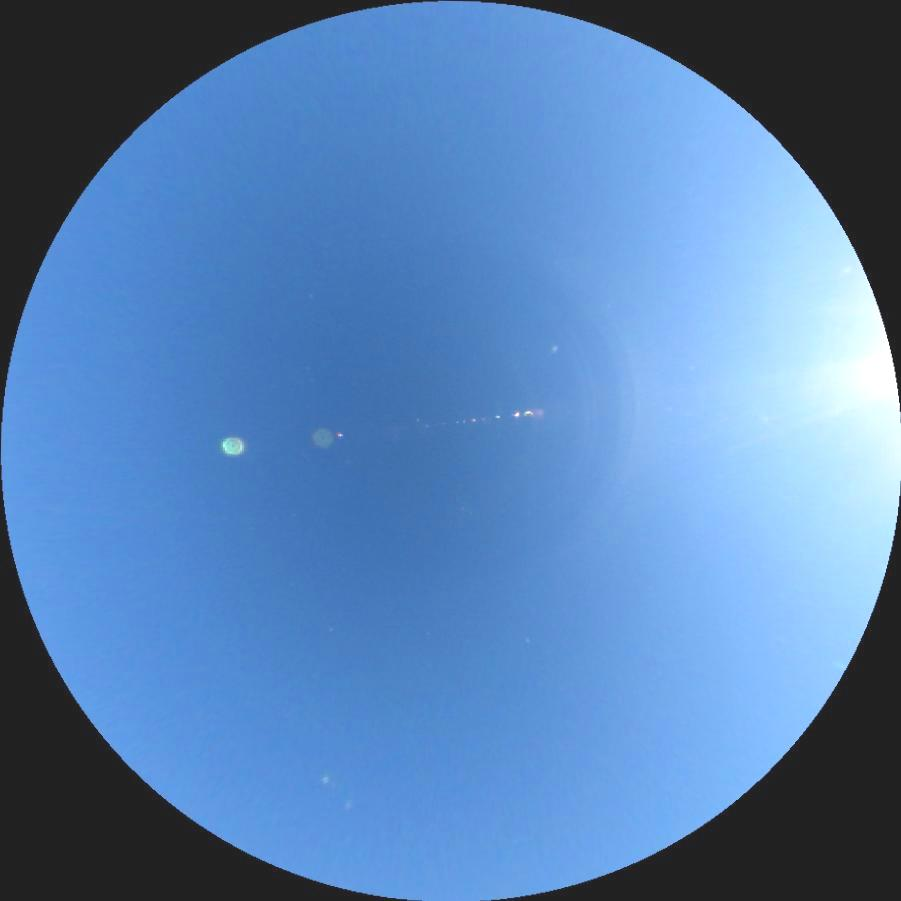contrail young: (295, 448, 311, 460)
